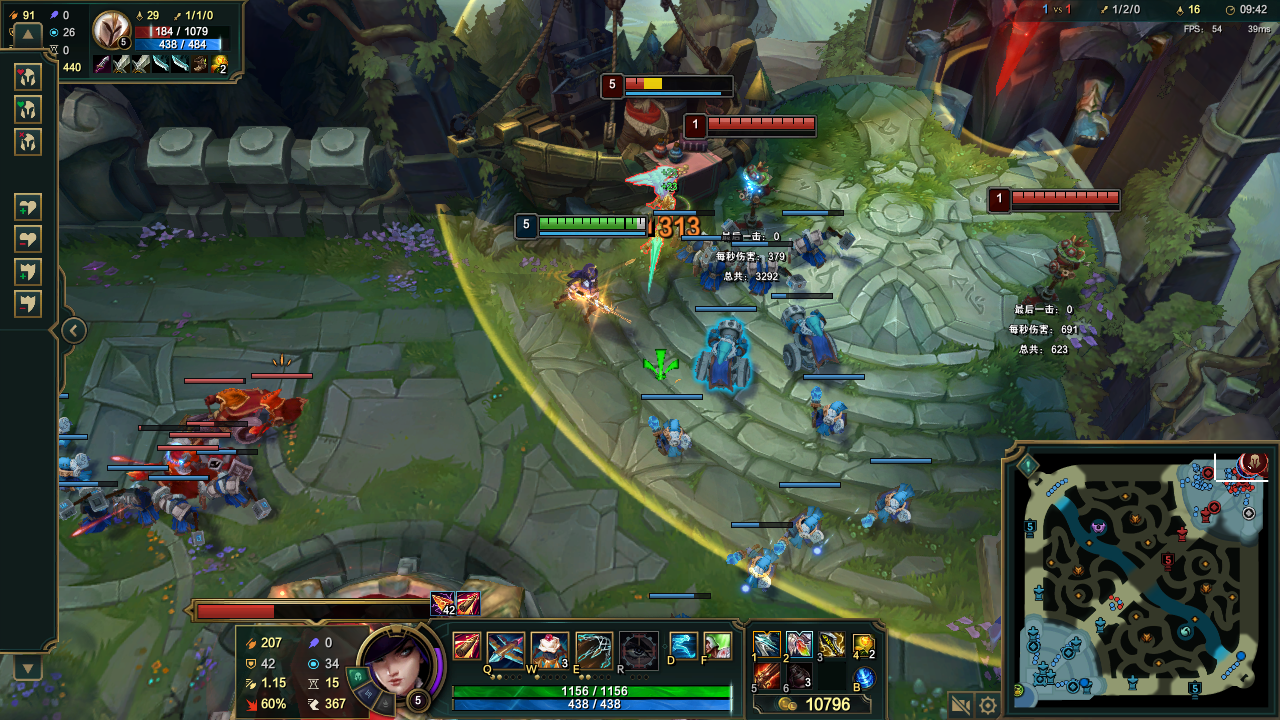DFYX: (623, 73, 732, 89), (704, 112, 822, 126), (1011, 192, 1122, 201)
